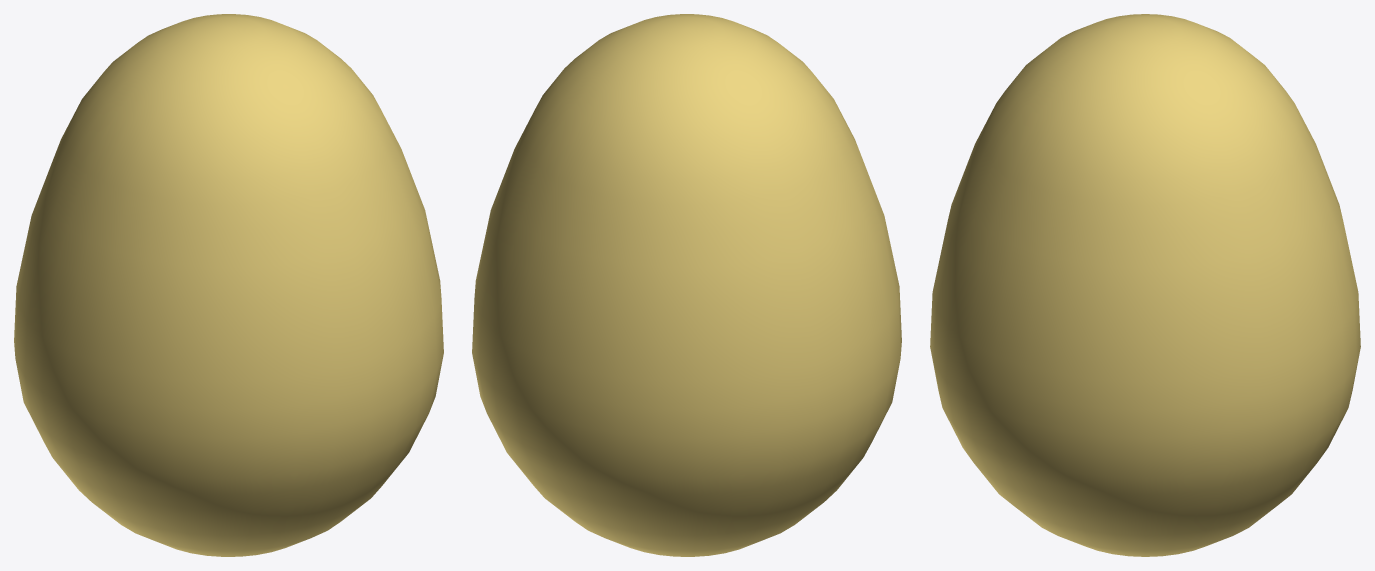
File: egg_3.fbx
The picture shows the model from 3 angles, left to right: view 1: azimuth 30°, elevation 25°; view 2: azimuth 150°, elevation 25°; view 3: azimuth 270°, elevation 25°; orthographic projection.
Parts seen in each view (by area): view 1: Sphere; view 2: Sphere; view 3: Sphere.
Boxes of the visible parts, x1,y1,x2,y2 form: Sphere: [14, 14, 443, 556]; Sphere: [472, 14, 901, 556]; Sphere: [930, 14, 1360, 556].
Bounding box in the file's own units: 201 × 263 × 201.
